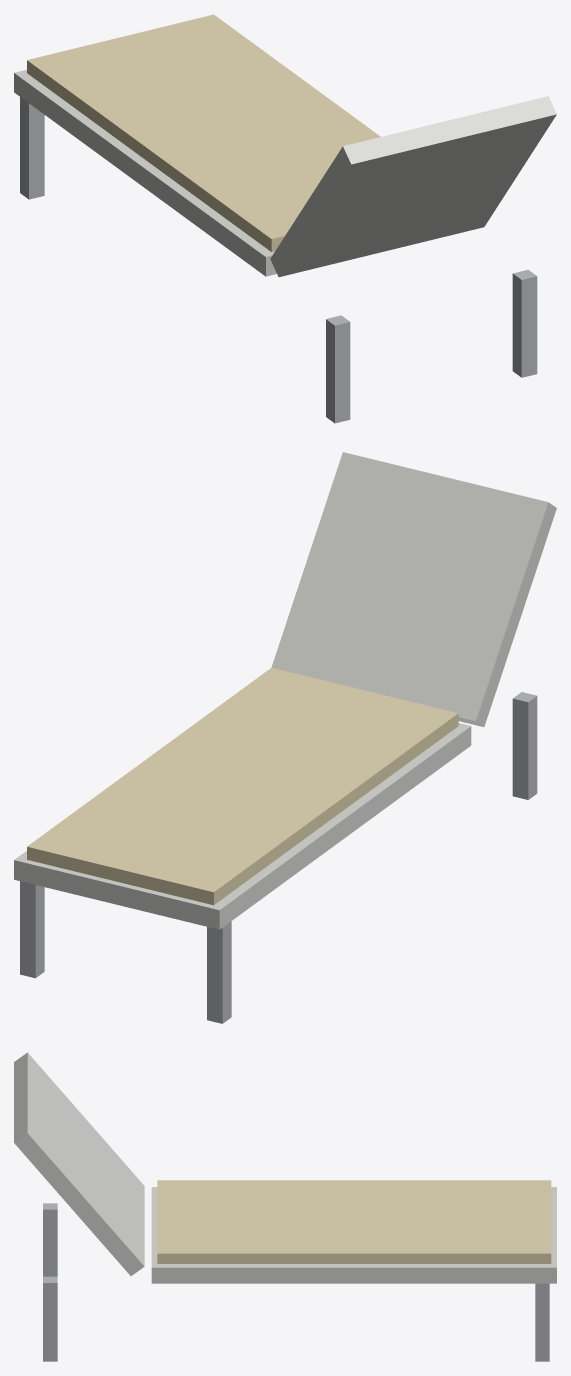
File: sb_sun_lounger.glb
3 views of the same model, one above another, from view 1: azimuth 30°, elevation 25°; view 2: azimuth 150°, elevation 25°; view 3: azimuth 270°, elevation 25° (orthographic). The views are drawn at different scales.
Parts seen in each view (by area): view 1: sb_sun_lounger; view 2: sb_sun_lounger; view 3: sb_sun_lounger.
Part boxes in pixels (x1,y1,x2,y2): sb_sun_lounger: [14, 14, 556, 423]; sb_sun_lounger: [14, 452, 556, 1023]; sb_sun_lounger: [14, 1052, 556, 1361].
Bounding box in the file's own units: 0.6576 × 0.87 × 1.87.
